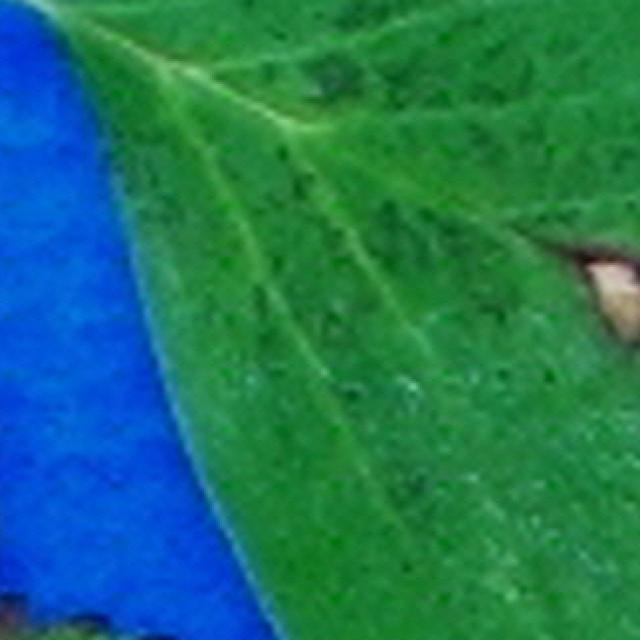Leaf Spot: (35, 0, 640, 640)
